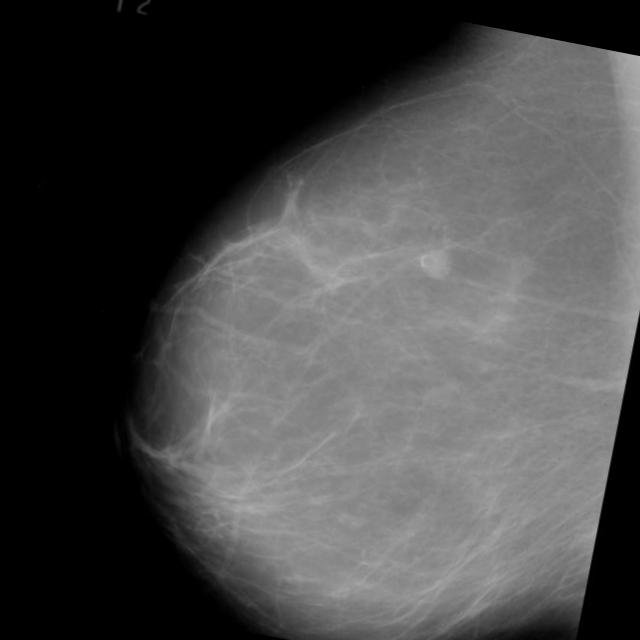CIRC: (417, 245, 455, 282)
